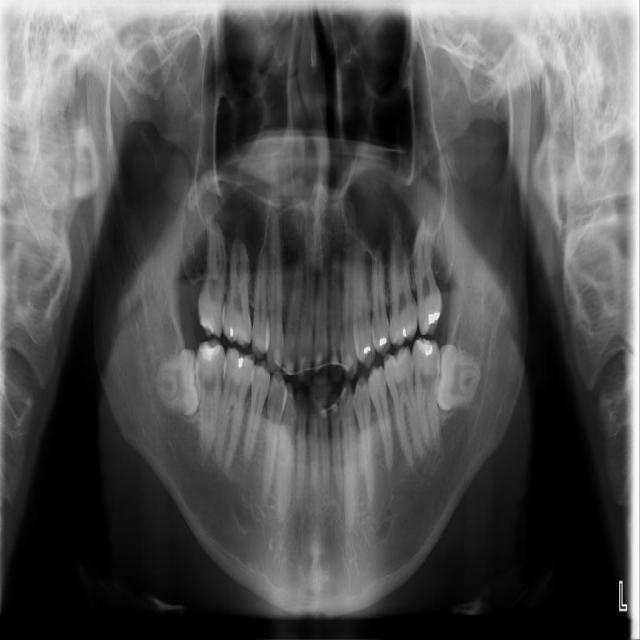52: (214, 345, 259, 406), (192, 337, 229, 392), (220, 295, 254, 349), (388, 293, 419, 349), (197, 280, 225, 339), (351, 316, 379, 370), (417, 279, 443, 337), (411, 338, 441, 384), (367, 308, 395, 357)
73: (584, 597, 588, 602)
BioHorizons Implant: (411, 210, 445, 338)
Biomet 3i Implant: (428, 342, 485, 416)
Blue Sky Bio Implant: (411, 337, 441, 458)
Caries: (196, 216, 229, 339)
Implant: (188, 336, 228, 470)
Keystone Dental Implant: (151, 347, 206, 421)
